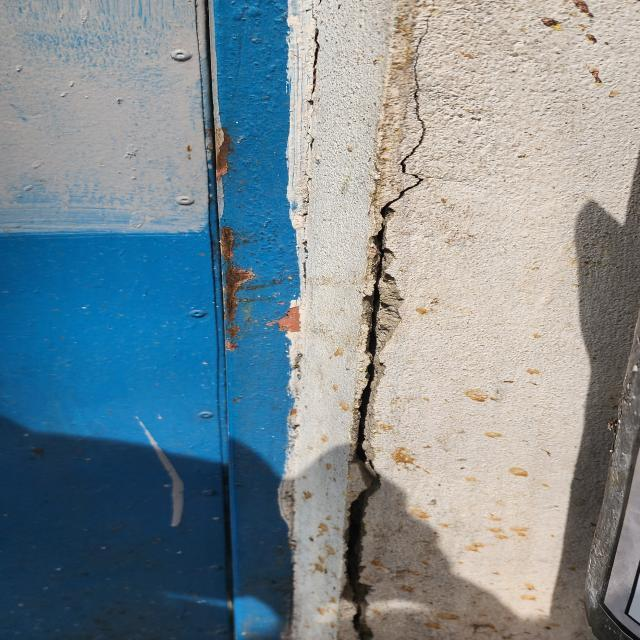SurfaceCrack: (301, 0, 477, 640), (146, 0, 270, 590)
